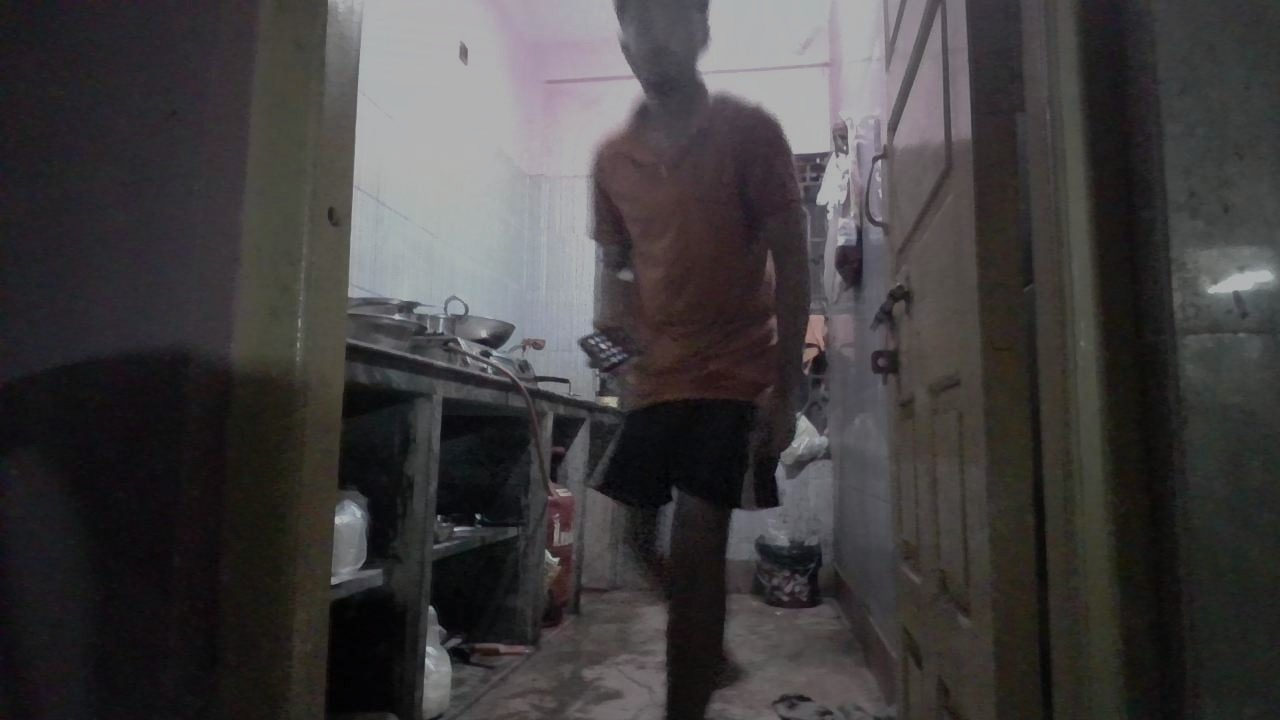red_box: (654, 344, 768, 401)
